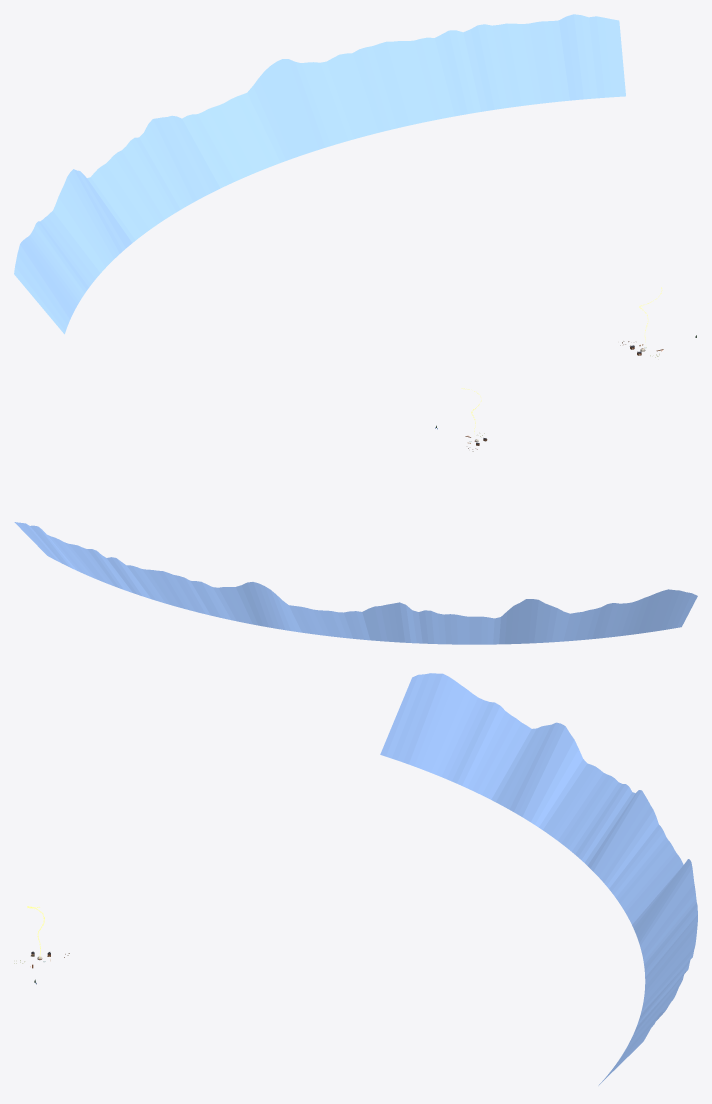
The model's file is static.glb.
3 views of the same model, one above another, from view 1: azimuth 30°, elevation 25°; view 2: azimuth 150°, elevation 25°; view 3: azimuth 270°, elevation 25° (orthographic). The views are drawn at different scales.
Parts seen in each view (by area): view 1: FarRidge; view 2: FarRidge; view 3: FarRidge.
Boxes of the visible parts, bbox=[...] form: FarRidge: bbox=[14, 14, 625, 334]; FarRidge: bbox=[14, 522, 697, 644]; FarRidge: bbox=[380, 673, 697, 1085].
Size of the model in its own units: 1457 by 147 by 1166.
